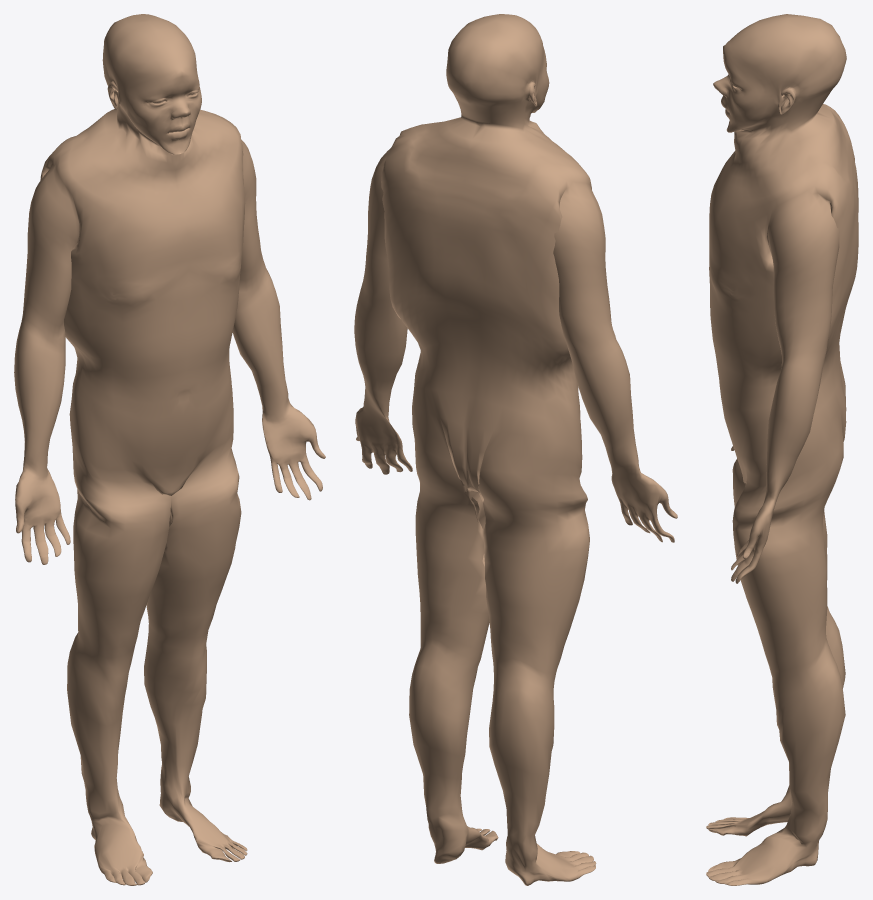
File: skin-candidate-r35.glb
3 renders of one model, left to right at view 1: azimuth 30°, elevation 25°; view 2: azimuth 150°, elevation 25°; view 3: azimuth 270°, elevation 25°, orthographic. The views are drawn at different scales.
Parts seen in each view (by area): view 1: MakeHuman_AT10_skin_fit_candidate_r35; view 2: MakeHuman_AT10_skin_fit_candidate_r35; view 3: MakeHuman_AT10_skin_fit_candidate_r35.
Part boxes in pixels (x1,y1,x2,y2): MakeHuman_AT10_skin_fit_candidate_r35: [14, 14, 325, 885]; MakeHuman_AT10_skin_fit_candidate_r35: [354, 14, 677, 885]; MakeHuman_AT10_skin_fit_candidate_r35: [706, 14, 858, 885].
Bounding box in the file's own units: 0.6691 × 1.71 × 0.2827.
